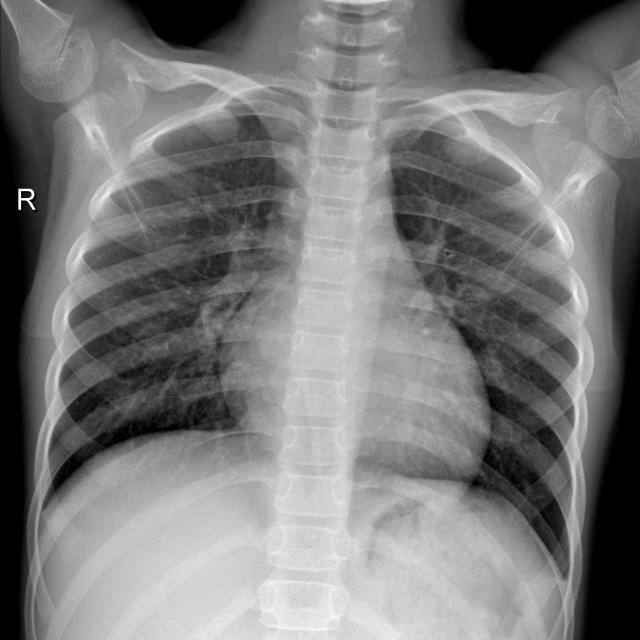no-pneumonia: (34, 84, 311, 524), (382, 95, 592, 580)
